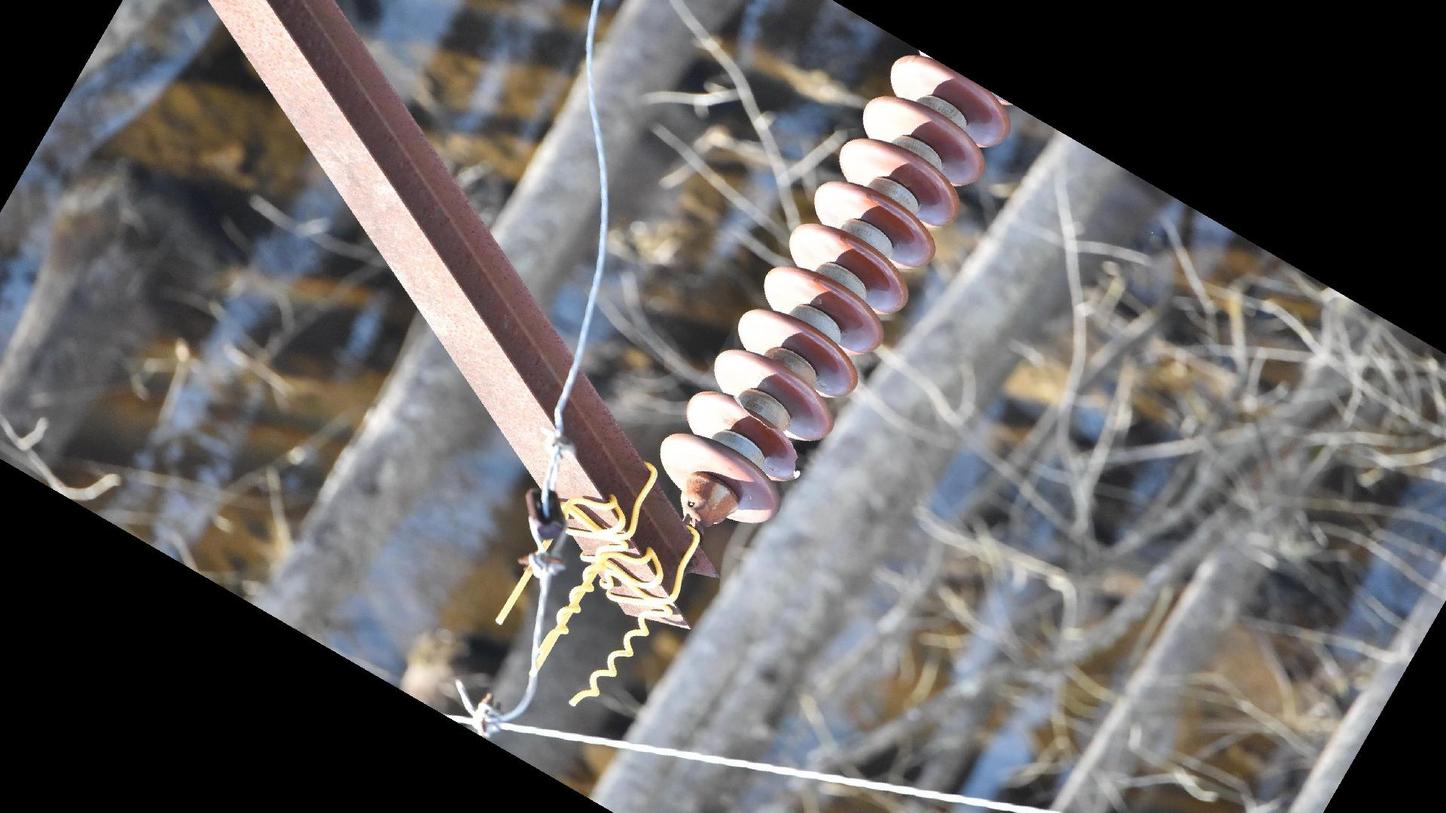insulator: (651, 48, 1014, 537)
insulator_breakage: (727, 391, 805, 485)
